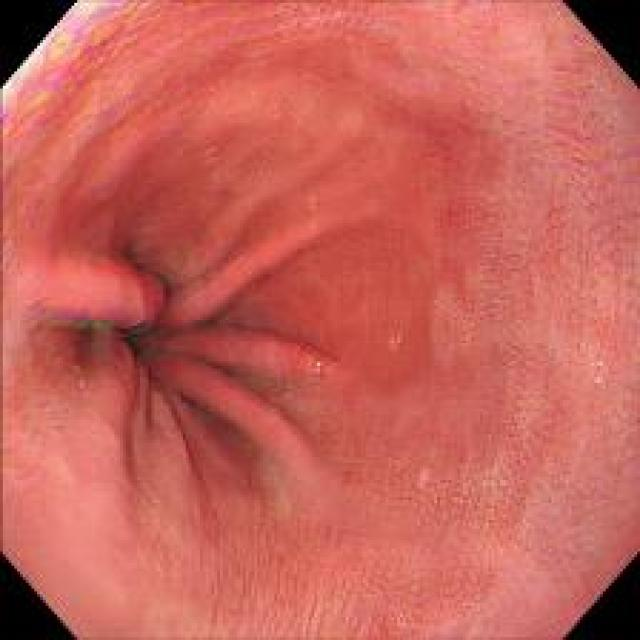blur: (2, 1, 635, 634)
bubbles: (309, 349, 331, 380)
color misalignment: (4, 302, 154, 338)
